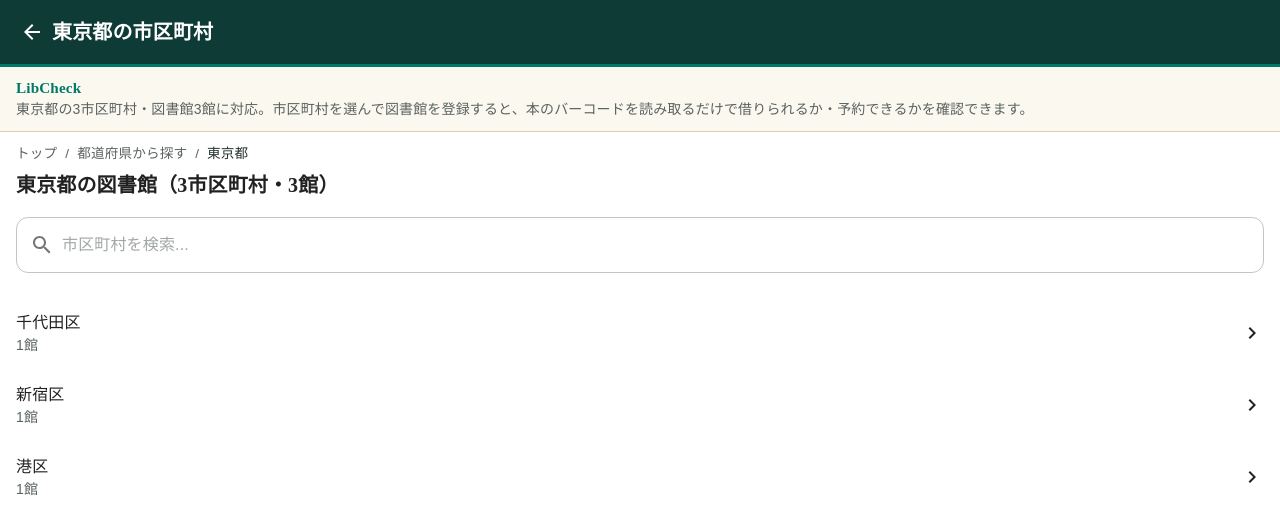
CitySelectionPage › filters cities by search text
Expected: the text "港区" is shown, [16, 458, 48, 475]
Type "港" into the field with placeholder "市区町村を検索..." at (663, 245), box [62, 217, 1264, 273]
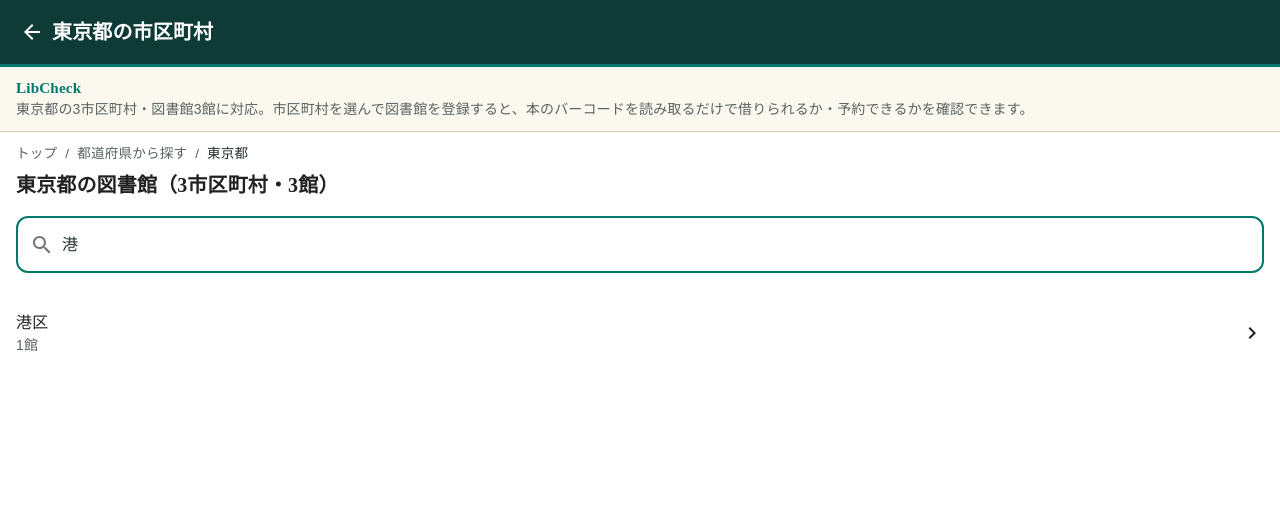
Expected: the text "港区" is shown, [16, 314, 48, 331]
Now the link "新宿区" is gone
Now the link "千代田区" is gone
